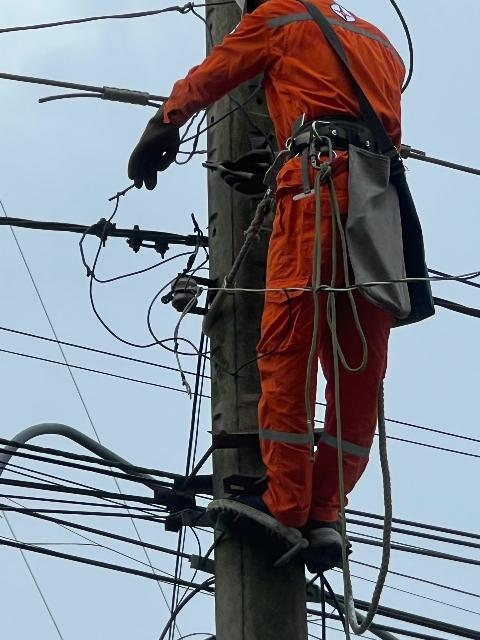gloves: (120, 96, 184, 199), (212, 139, 304, 209)
harness: (277, 110, 429, 183)
helmet: (206, 0, 371, 19)
shoes: (200, 484, 312, 561), (307, 508, 362, 578)
